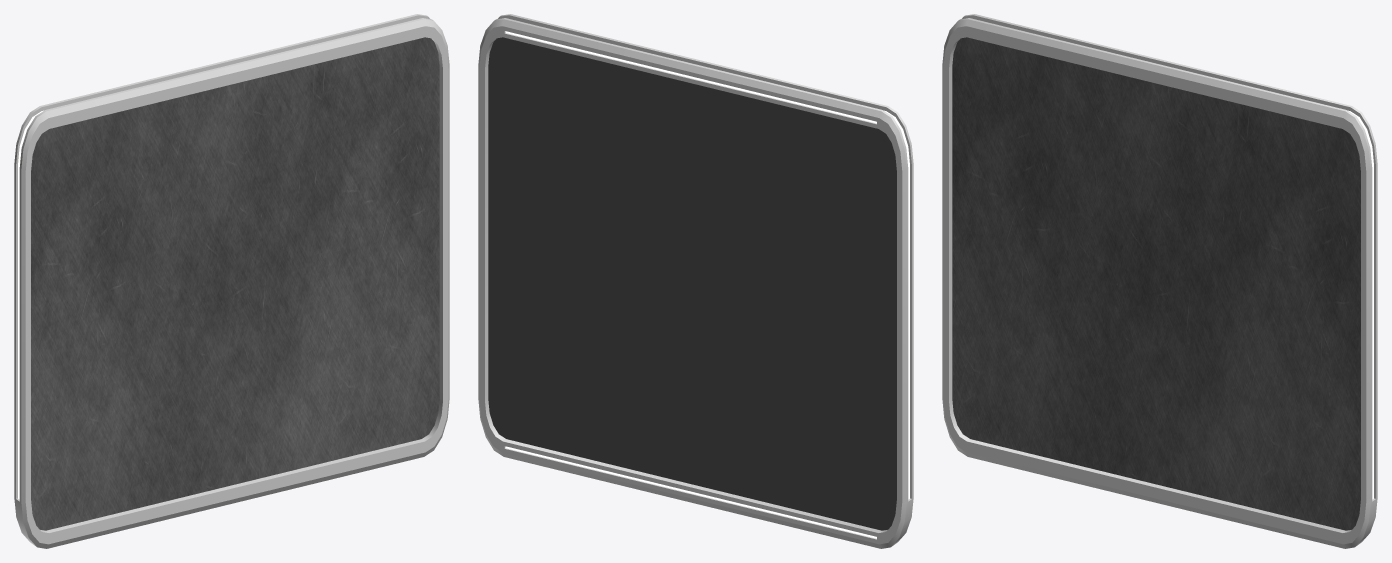
3 renders of one model, left to right at view 1: azimuth 30°, elevation 25°; view 2: azimuth 150°, elevation 25°; view 3: azimuth 330°, elevation 25°, orthographic.
Parts seen in each view (by area): view 1: Cube.045; view 2: Cube.045; view 3: Cube.045.
Part boxes in pixels (bbox=[...]): Cube.045: bbox=[14, 14, 449, 548]; Cube.045: bbox=[478, 14, 913, 548]; Cube.045: bbox=[942, 14, 1377, 548].
Size of what is drawn, in the model's own units: 1.43 by 1.4 by 0.0596.
4 materials, 1 textured.
